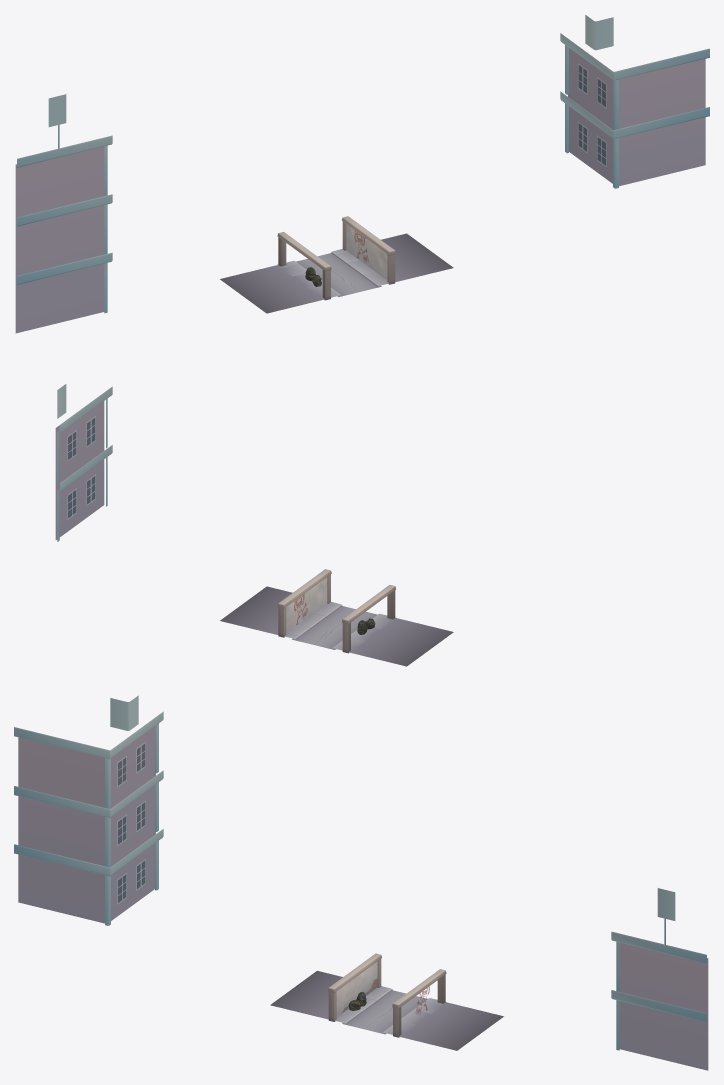
The model's file is UrbanPlasterWalls02.prefab.glb.
The picture shows the model from 3 angles, top to bottom: view 1: azimuth 30°, elevation 25°; view 2: azimuth 150°, elevation 25°; view 3: azimuth 330°, elevation 25°; orthographic projection.
Parts seen in each view (by area): view 1: FarBackBuilding01, UrbanPlasterWalls02, PlasteredWall01, PlasteredWall02; view 2: UrbanPlasterWalls02, FarBackBuilding01, PlasteredWall01, PlasteredWall02; view 3: FarBackBuilding01, UrbanPlasterWalls02, PlasteredWall02, PlasteredWall01.
Boxes of the visible parts, bbox=[...] form: FarBackBuilding01: bbox=[15, 15, 709, 333]; UrbanPlasterWalls02: bbox=[220, 233, 453, 313]; PlasteredWall01: bbox=[342, 216, 396, 284]; PlasteredWall02: bbox=[277, 232, 331, 300]; UrbanPlasterWalls02: bbox=[220, 586, 453, 666]; FarBackBuilding01: bbox=[55, 384, 112, 541]; PlasteredWall01: bbox=[277, 569, 331, 637]; PlasteredWall02: bbox=[342, 585, 395, 653]; FarBackBuilding01: bbox=[14, 695, 708, 1070]; UrbanPlasterWalls02: bbox=[270, 970, 503, 1050]; PlasteredWall02: bbox=[327, 953, 381, 1021]; PlasteredWall01: bbox=[392, 969, 446, 1037].
Size of the model in its own units: 76.34 by 26.74 by 10.17.
Materials: 5 (4 with a texture image).
